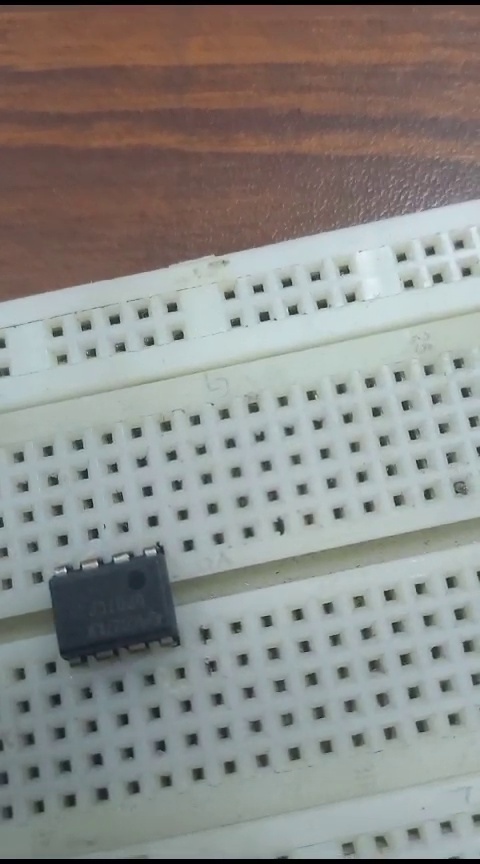IC: (42, 552, 171, 648)
